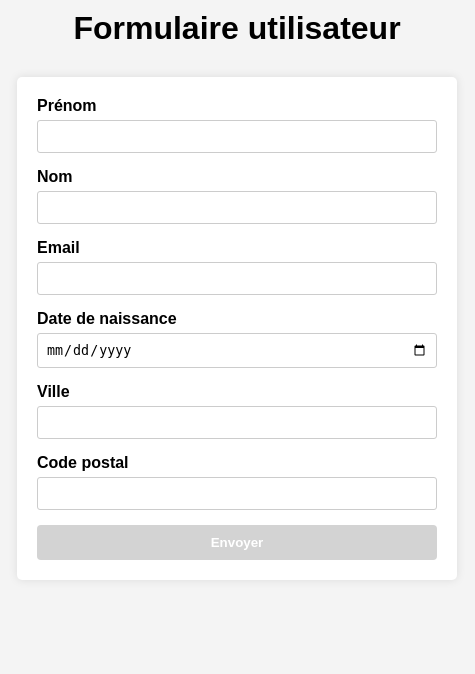
Test: Integration test - User form › should display age error under birth field on submit
Type "Paul" into the field labelled "Prénom" at {"x": 237, "y": 136}, box [37, 120, 437, 153]
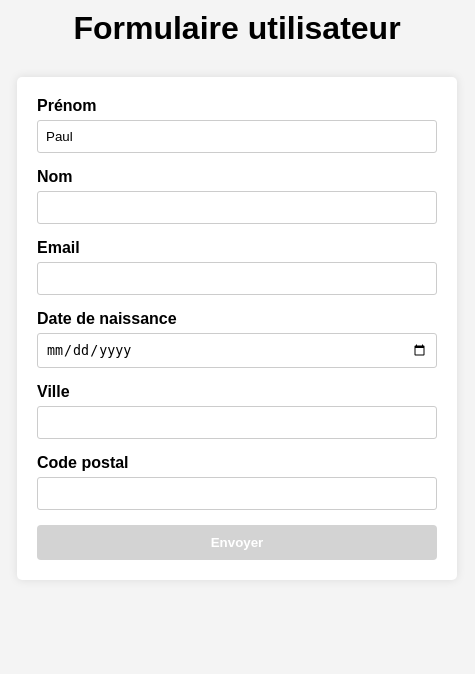
Type "Martin" into the field labelled "Nom" at {"x": 237, "y": 208}, box [37, 191, 437, 224]
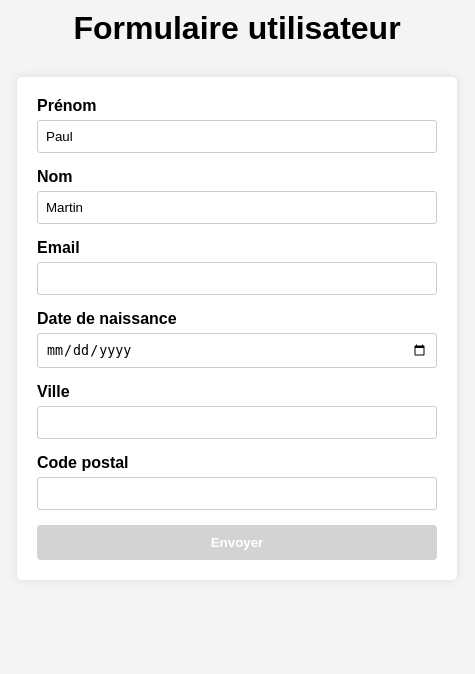
Type "paul@test.com" into the field labelled "Email" at {"x": 237, "y": 278}, box [37, 262, 437, 295]
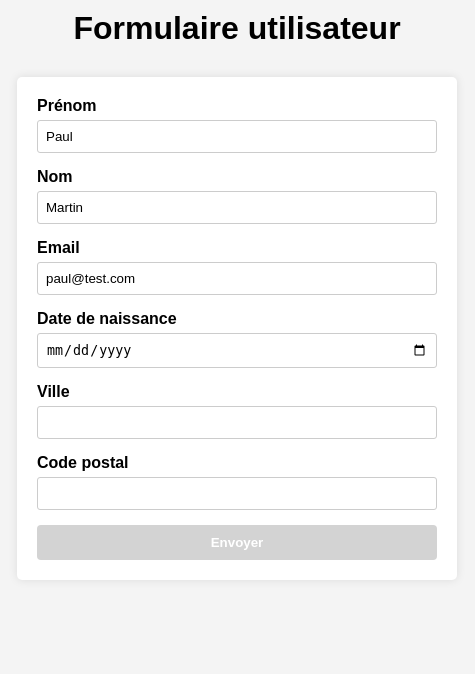
Type "2015-01-01" into the date field labelled "Date de naissance" at {"x": 237, "y": 351}, box [37, 333, 437, 368]
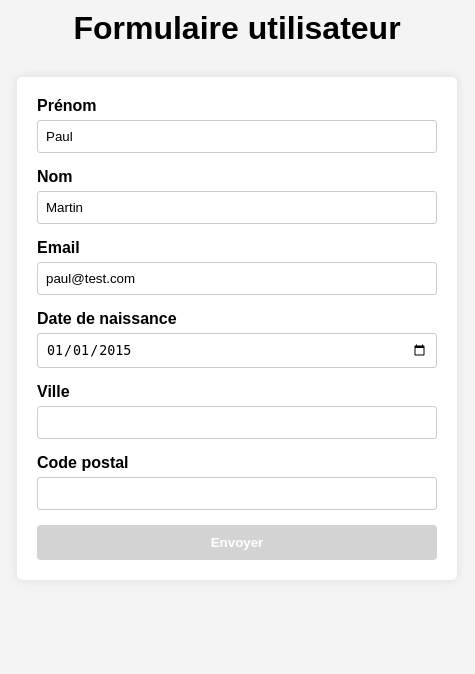
Type "75000" into the field labelled "Code postal" at {"x": 237, "y": 494}, box [37, 477, 437, 510]
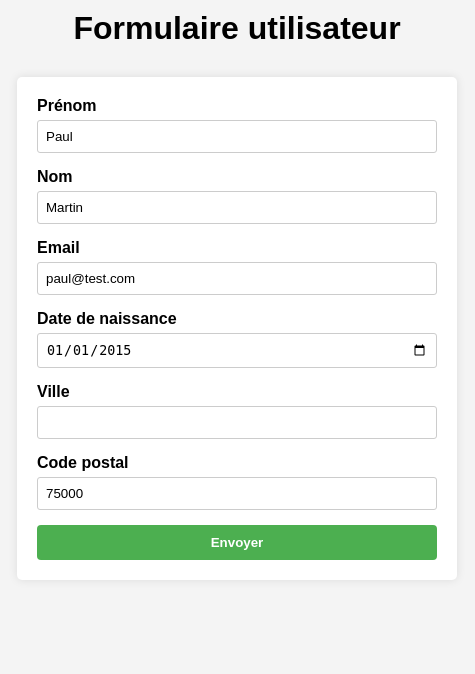
Submit the form from the button, box [37, 525, 437, 560]
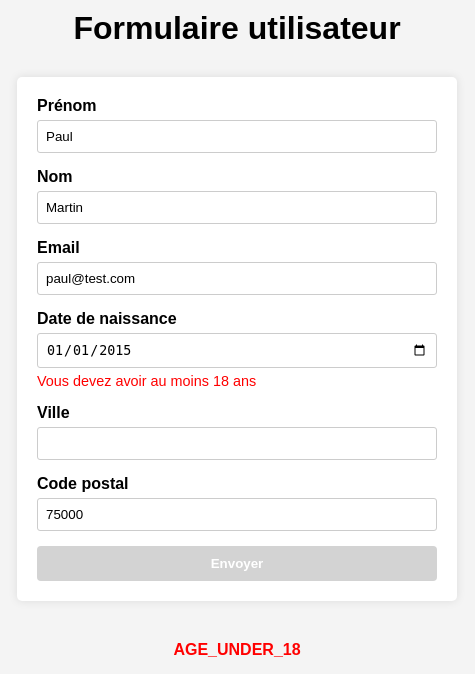
Check: the text "Vous devez avoir au moins 18 ans" is shown, box [37, 373, 256, 389]
